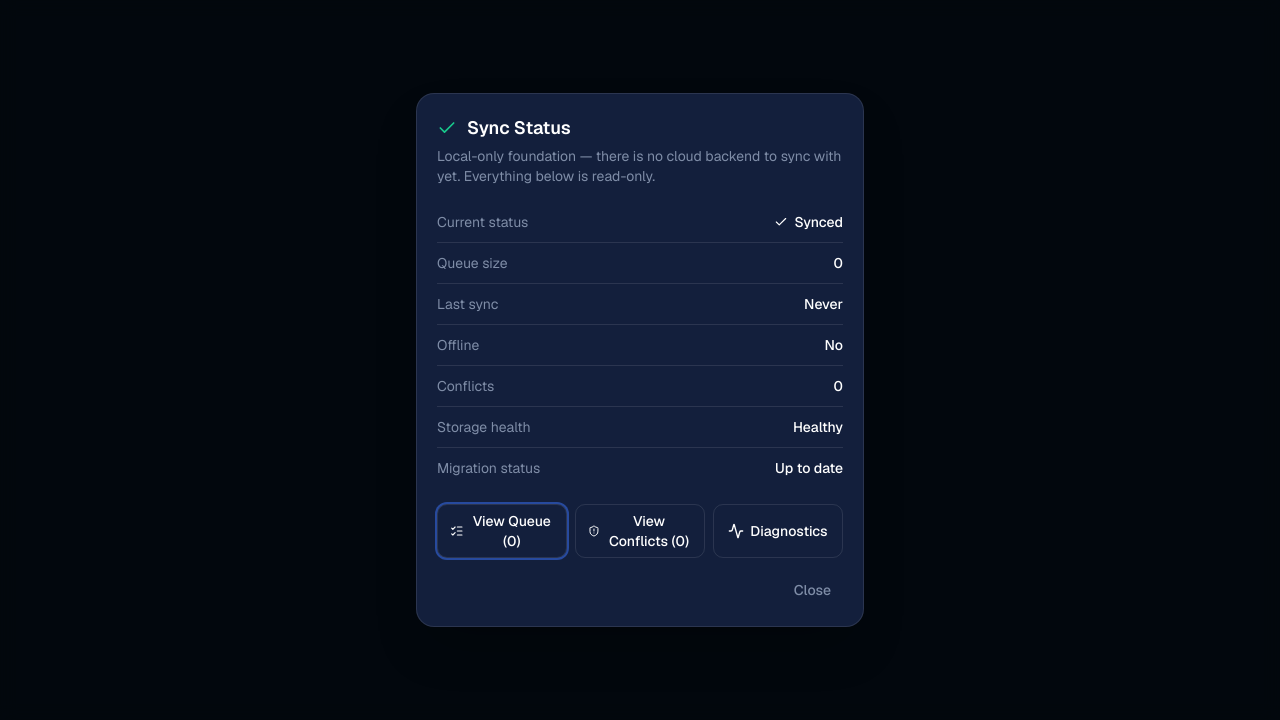
Test: SyncStatusCard › Diagnostics closes this dialog and opens the real Sync Diagnostics dialog
Click the button "Diagnostics".
click(778, 531)  # box [713,504,843,558]
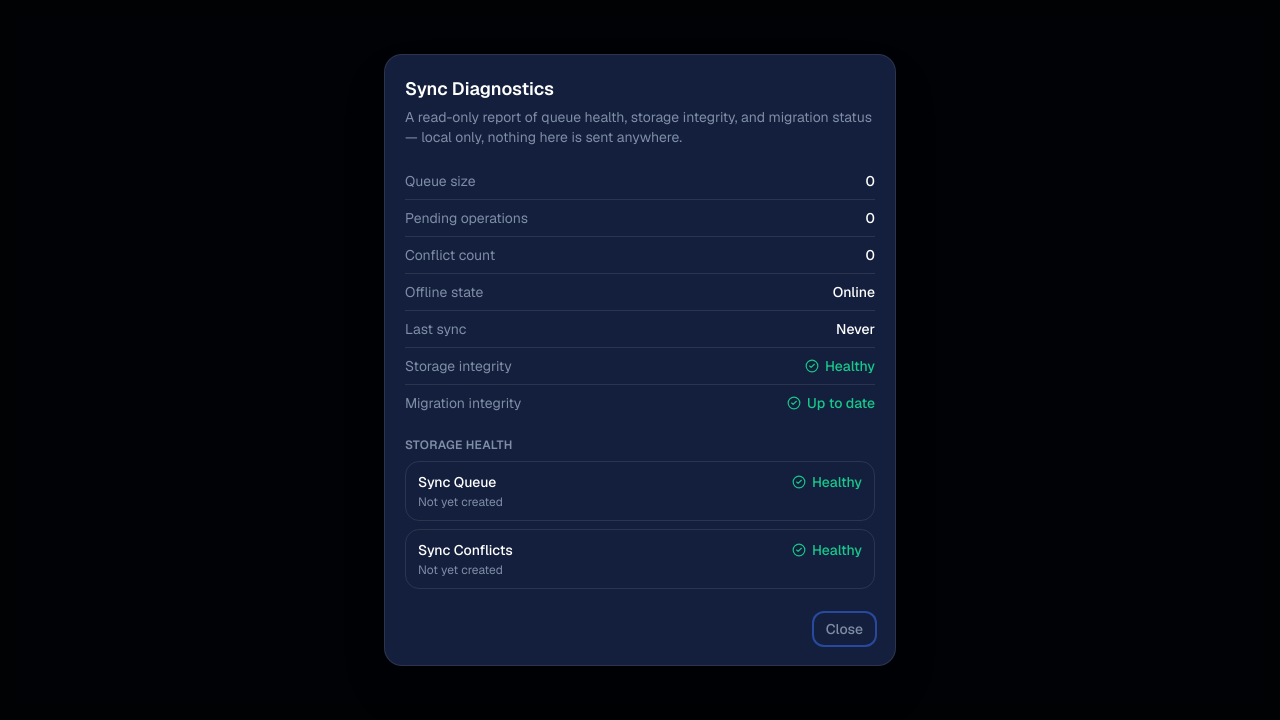
Result: the dialog "Sync Diagnostics" is shown at [384,54,896,666]
